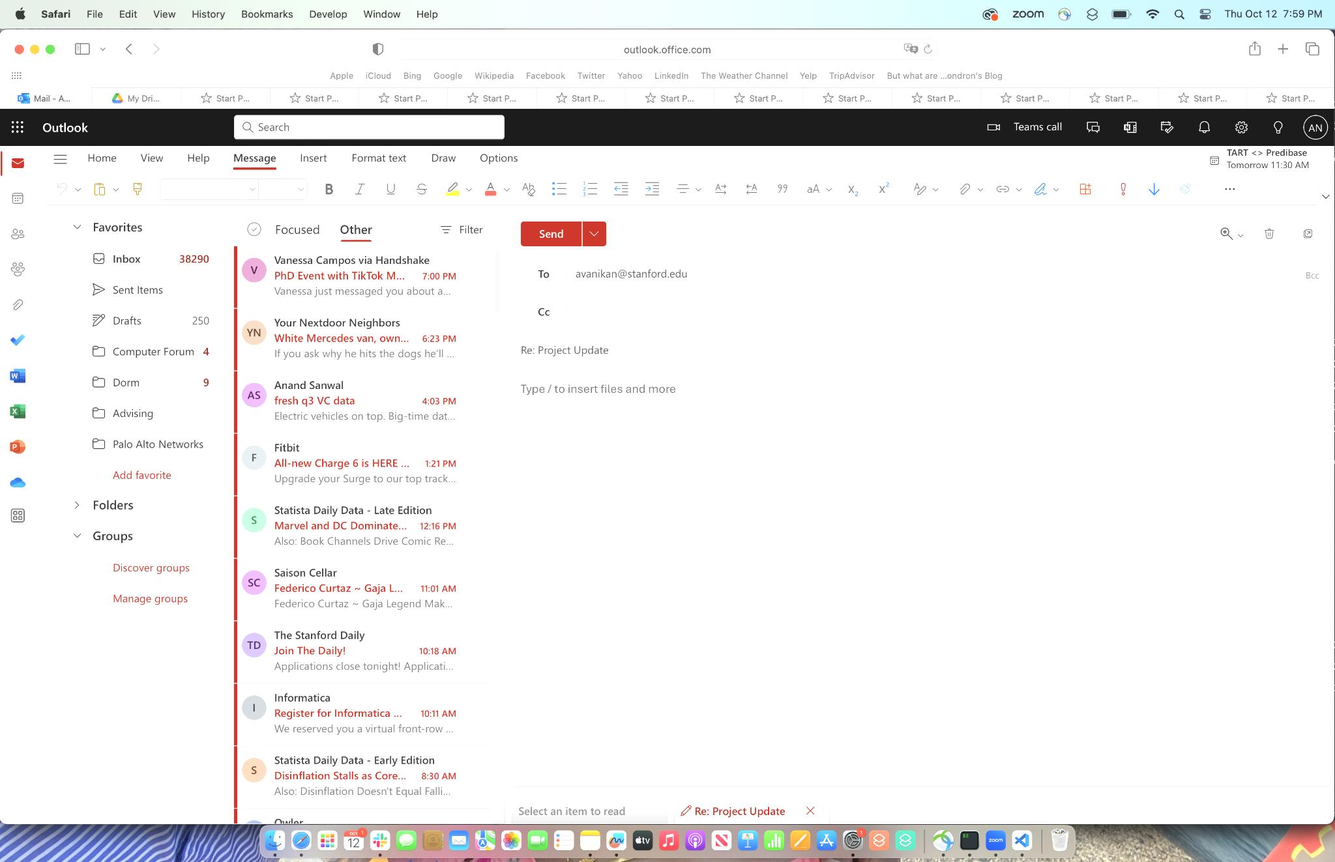webelement: (516, 375, 1317, 785), (519, 331, 1039, 365), (233, 620, 491, 684), (237, 433, 489, 498), (236, 685, 488, 749), (236, 498, 487, 562), (234, 749, 492, 809), (236, 372, 488, 433), (234, 564, 489, 622), (236, 251, 488, 309), (234, 311, 489, 367), (232, 111, 508, 143), (570, 299, 865, 323), (572, 262, 813, 291), (79, 304, 193, 336), (66, 489, 180, 520), (65, 522, 189, 550), (158, 175, 261, 208), (80, 274, 181, 305), (63, 214, 165, 241), (80, 247, 171, 274), (340, 147, 415, 172), (223, 144, 288, 172), (470, 148, 533, 174), (79, 143, 131, 172), (288, 143, 339, 172), (262, 176, 309, 207), (273, 217, 329, 243), (331, 217, 383, 245), (521, 223, 584, 245), (946, 174, 987, 207), (703, 171, 740, 206), (179, 143, 220, 174), (801, 172, 837, 206), (475, 175, 517, 204), (990, 172, 1028, 204), (1210, 221, 1253, 249), (134, 144, 176, 172), (740, 171, 773, 206), (637, 172, 668, 206), (840, 171, 869, 207), (418, 150, 469, 170), (670, 174, 704, 204), (443, 174, 474, 206), (605, 174, 636, 204), (312, 175, 345, 203), (871, 171, 899, 204), (546, 175, 577, 204), (1254, 221, 1288, 247), (378, 174, 408, 203), (577, 174, 605, 204), (411, 176, 442, 203), (348, 174, 376, 203), (521, 176, 546, 203), (777, 175, 800, 203)
